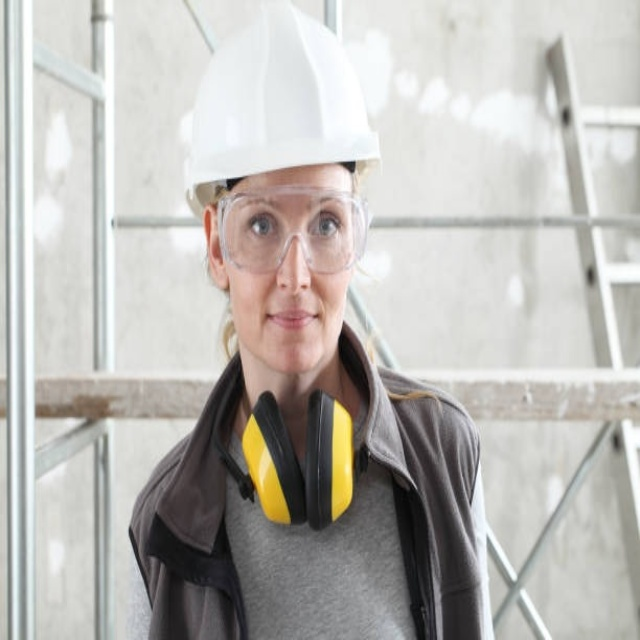Gafas: (216, 190, 369, 275)
Sin_mascara: (254, 296, 328, 365)
